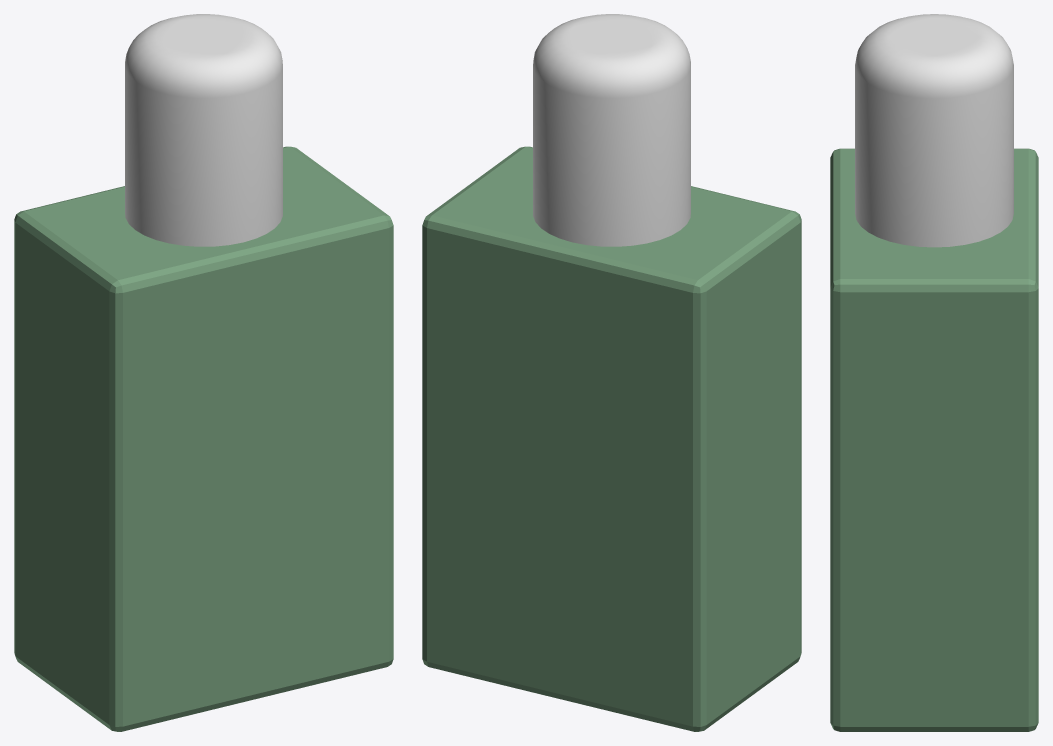
Rendered from PerfumeBottle2.glb.
3 views of the same model, side by side, from view 1: azimuth 30°, elevation 25°; view 2: azimuth 150°, elevation 25°; view 3: azimuth 270°, elevation 25° (orthographic).
Parts seen in each view (by area): view 1: Perfume Bottle 2; view 2: Perfume Bottle 2; view 3: Perfume Bottle 2.
Boxes of the visible parts, <box> form: Perfume Bottle 2: <box>14,14,393,731</box>; Perfume Bottle 2: <box>422,14,801,731</box>; Perfume Bottle 2: <box>830,14,1038,731</box>.
Size of the model in its own units: 0.0631 by 0.1336 by 0.0401.
